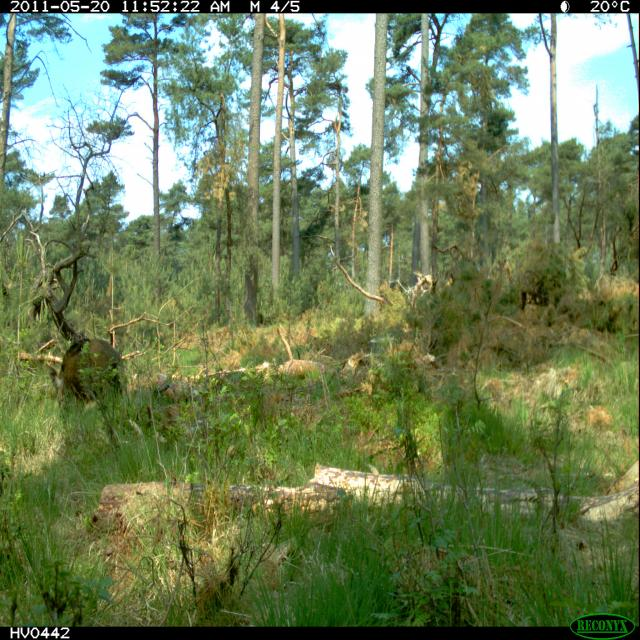boar: (39, 308, 162, 449)
